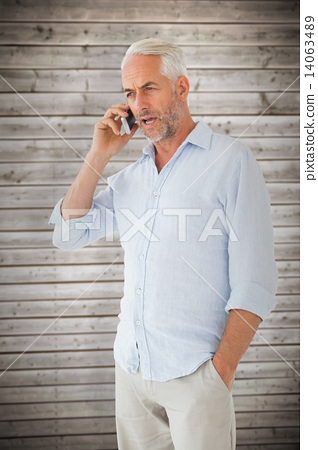phone: (113, 101, 137, 147)
talk: (96, 78, 186, 168)
